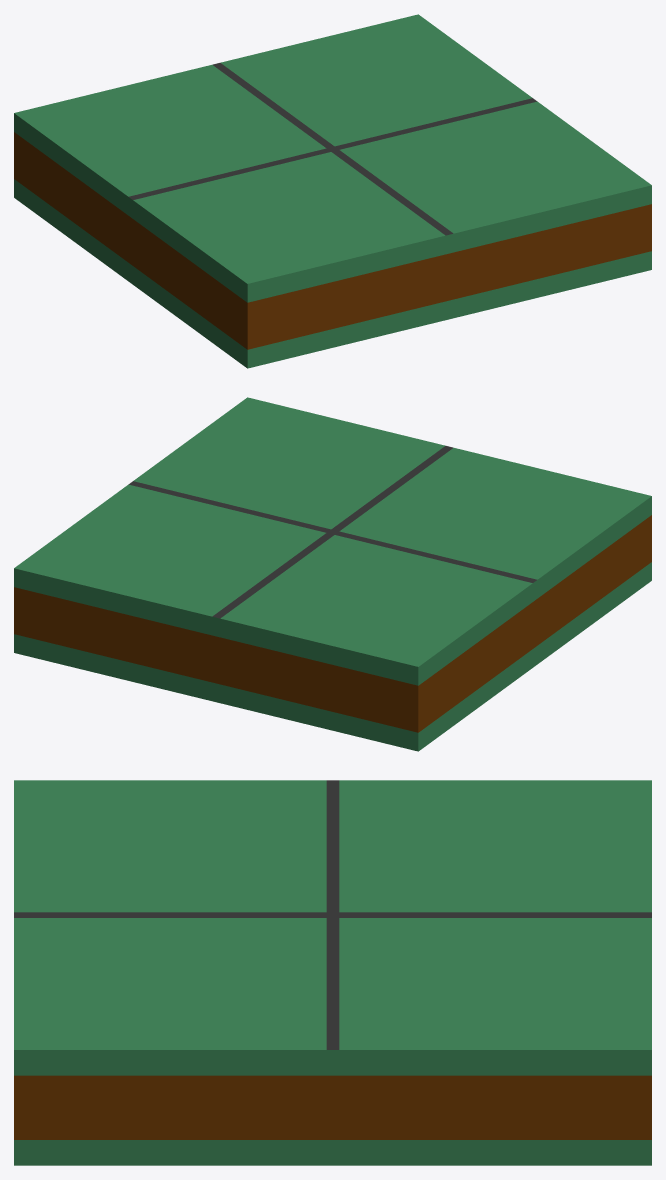
Rendered from GroundTile_0-Edge 1.fbx.
3 renders of one model, top to bottom at view 1: azimuth 30°, elevation 25°; view 2: azimuth 150°, elevation 25°; view 3: azimuth 270°, elevation 25°, orthographic. The views are drawn at different scales.
Visible parts, largest first — view 1: Tile_Center; view 2: Tile_Center; view 3: Tile_Center.
Part boxes in pixels (x1,y1,x2,y2): Tile_Center: [14, 14, 651, 368]; Tile_Center: [14, 397, 651, 751]; Tile_Center: [14, 780, 651, 1165].
Size of the model in its own units: 100 by 20 by 100.
